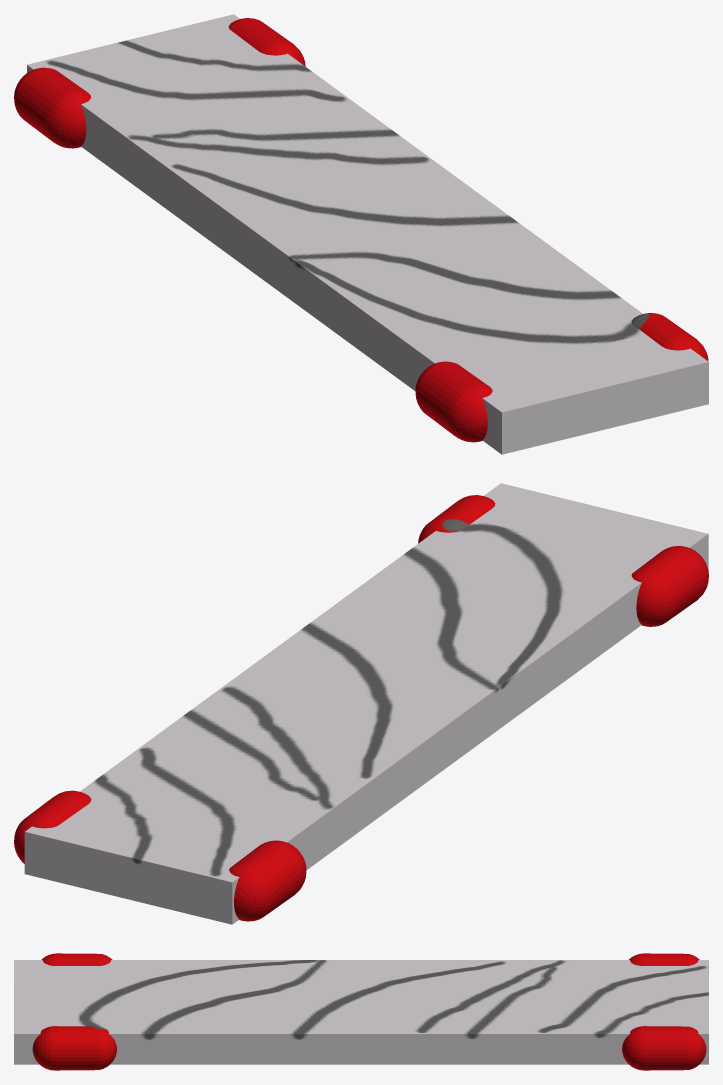
The model's file is Platform Test.fbx.
The picture shows the model from 3 angles, top to bottom: view 1: azimuth 30°, elevation 25°; view 2: azimuth 150°, elevation 25°; view 3: azimuth 270°, elevation 25°; orthographic projection. The views are drawn at different scales.
Parts seen in each view (by area): view 1: node_id4, node_id13, node_id11, node_id9, node_id7; view 2: node_id4, node_id11, node_id13, node_id9, node_id7; view 3: node_id4, node_id9, node_id7, node_id13, node_id11.
Boxes of the visible parts, x1,y1,x2,y2 form: node_id4: (27, 14, 708, 454); node_id13: (415, 361, 492, 442); node_id11: (14, 67, 90, 148); node_id9: (228, 18, 305, 66); node_id7: (631, 313, 708, 361); node_id4: (24, 483, 708, 924); node_id11: (229, 840, 306, 921); node_id13: (631, 546, 708, 626); node_id9: (14, 790, 91, 863); node_id7: (418, 495, 495, 543); node_id4: (14, 960, 708, 1064); node_id9: (622, 1026, 706, 1070); node_id7: (32, 1026, 116, 1070); node_id13: (41, 953, 112, 965); node_id11: (629, 953, 699, 965).
Bounding box in the file's own units: 0.1473 × 0.0302 × 0.4729.
6 materials, 3 textured.
